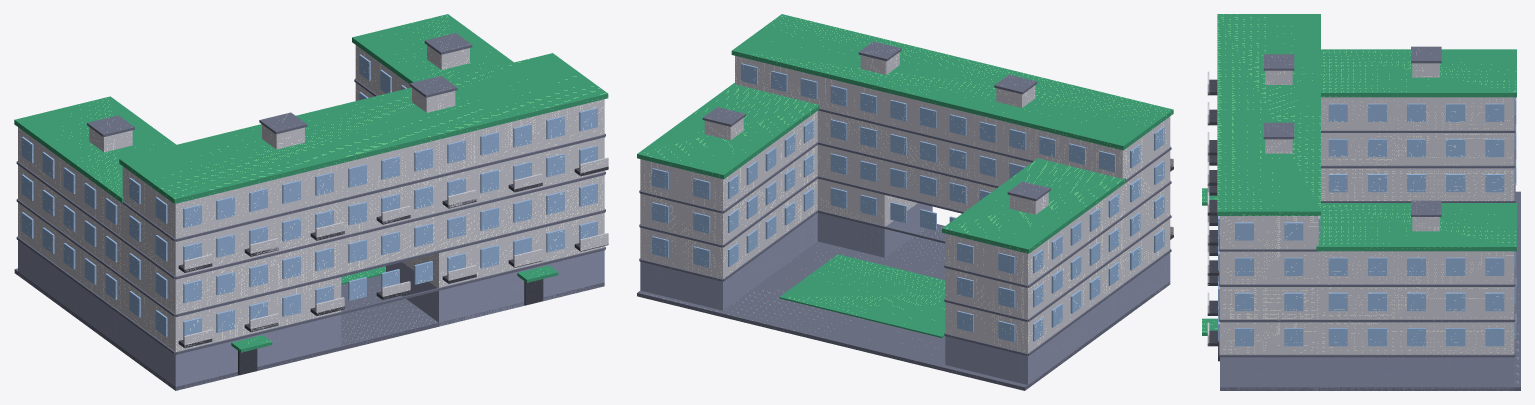
The model's file is panel-3x2-l1.glb.
3 renders of one model, left to right at view 1: azimuth 30°, elevation 25°; view 2: azimuth 150°, elevation 25°; view 3: azimuth 270°, elevation 25°, orthographic. The views are drawn at different scales.
Visible parts, largest first — view 1: panel-3x2-l1; view 2: panel-3x2-l1; view 3: panel-3x2-l1.
Part boxes in pixels (box(x1,y1,x2,y2)): panel-3x2-l1: box(14, 14, 608, 390); panel-3x2-l1: box(637, 14, 1173, 390); panel-3x2-l1: box(1202, 14, 1520, 390).
Size of the model in its own units: 5.78 by 2.69 by 3.94.
Materials: 1 (1 with a texture image).
